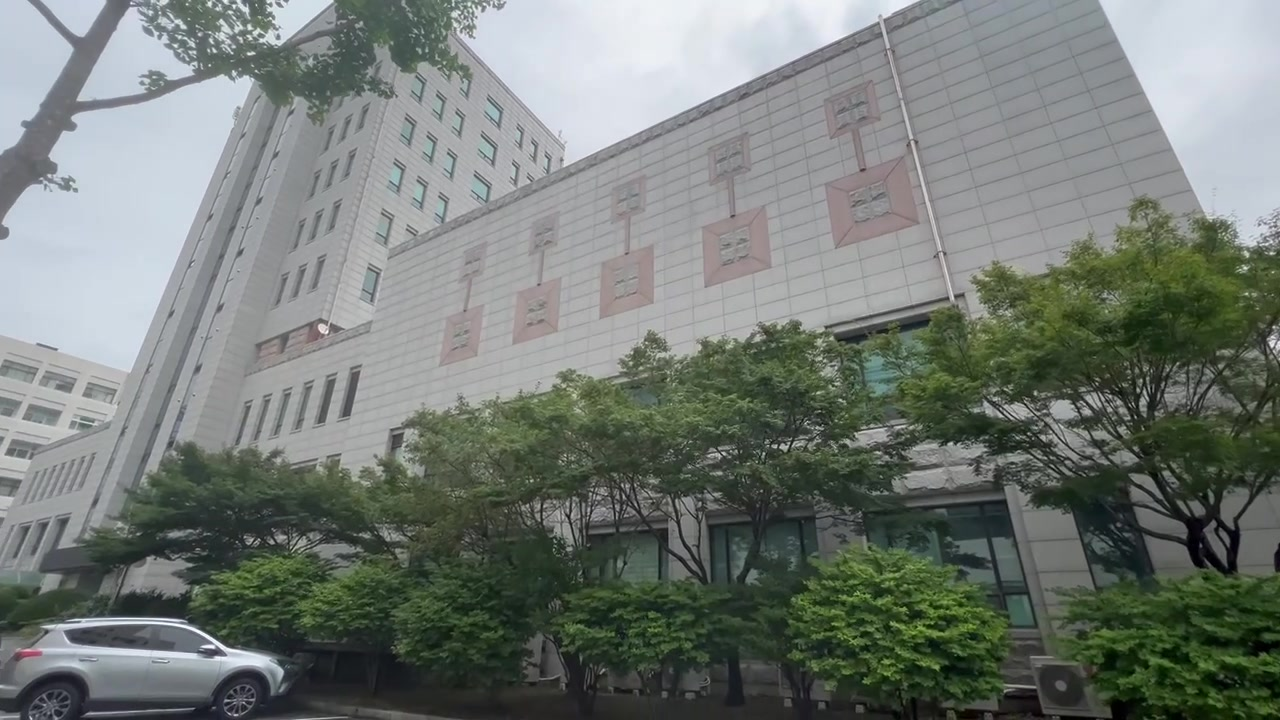low: (189, 101, 944, 350)
